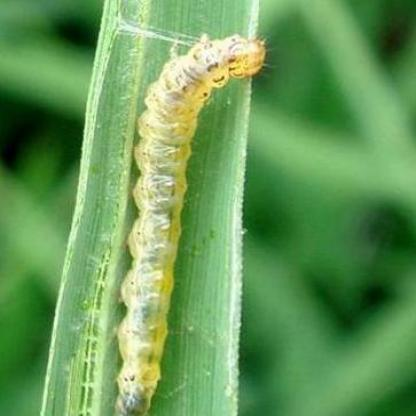leaf-folder: (102, 26, 278, 416)
